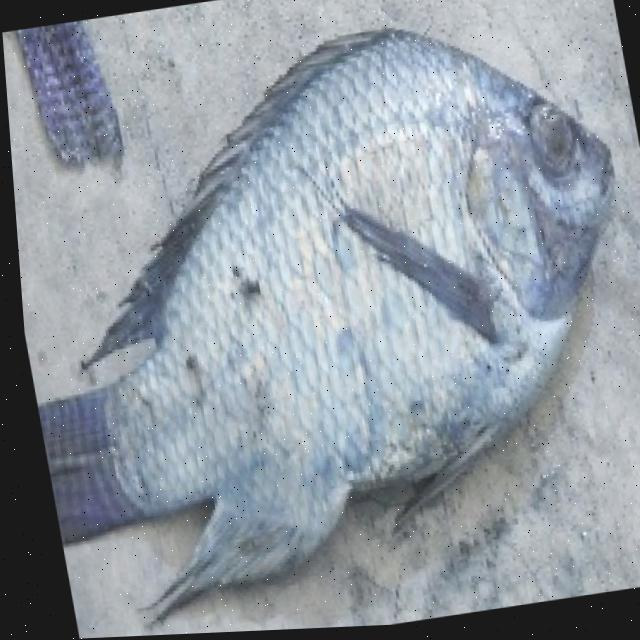Non-Fresh: (82, 26, 640, 535)
